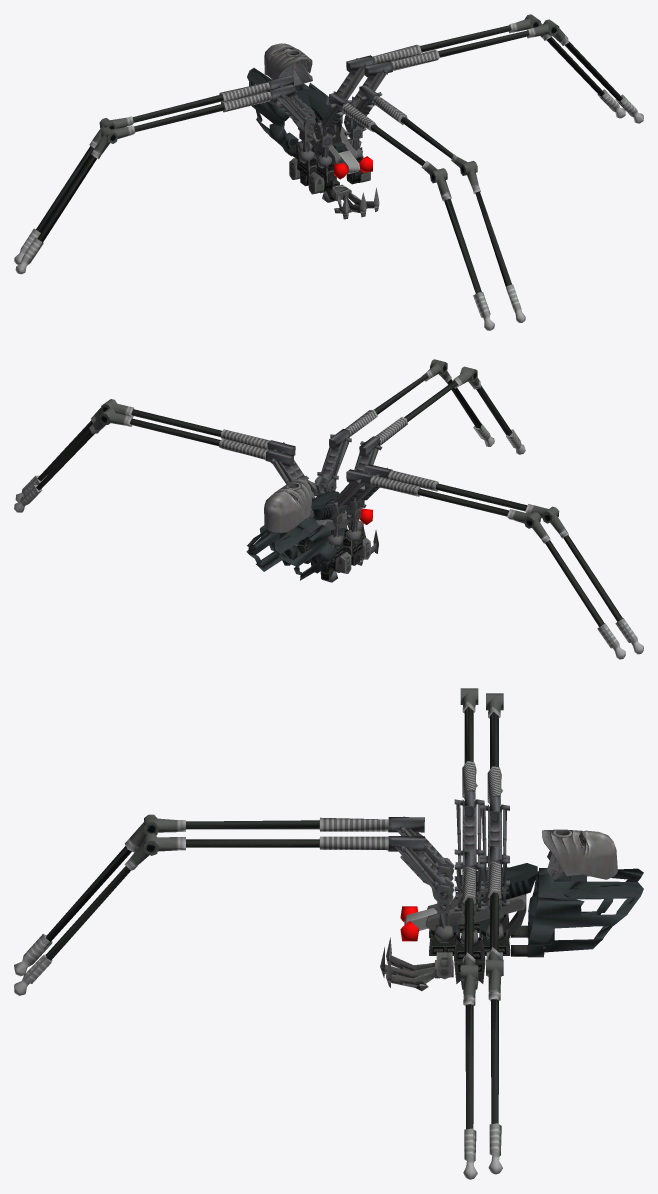
File: bspd.obj
The picture shows the model from 3 angles, top to bottom: view 1: azimuth 30°, elevation 25°; view 2: azimuth 150°, elevation 25°; view 3: azimuth 270°, elevation 25°; orthographic projection. The views are drawn at different scales.
Size of the model in its own units: 12.98 by 2.5 by 8.8.
